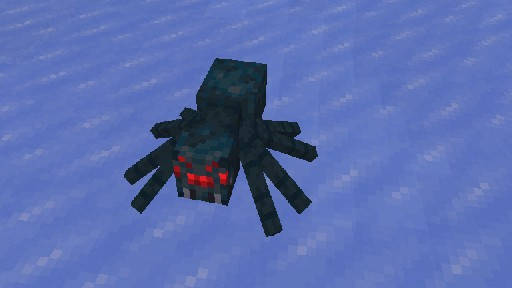cave_spider: (123, 57, 317, 236)
